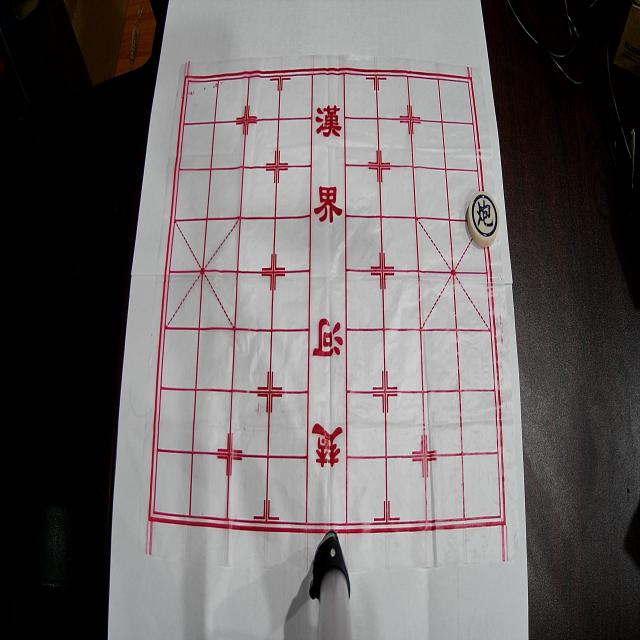black-cannon: (467, 191, 499, 248)
